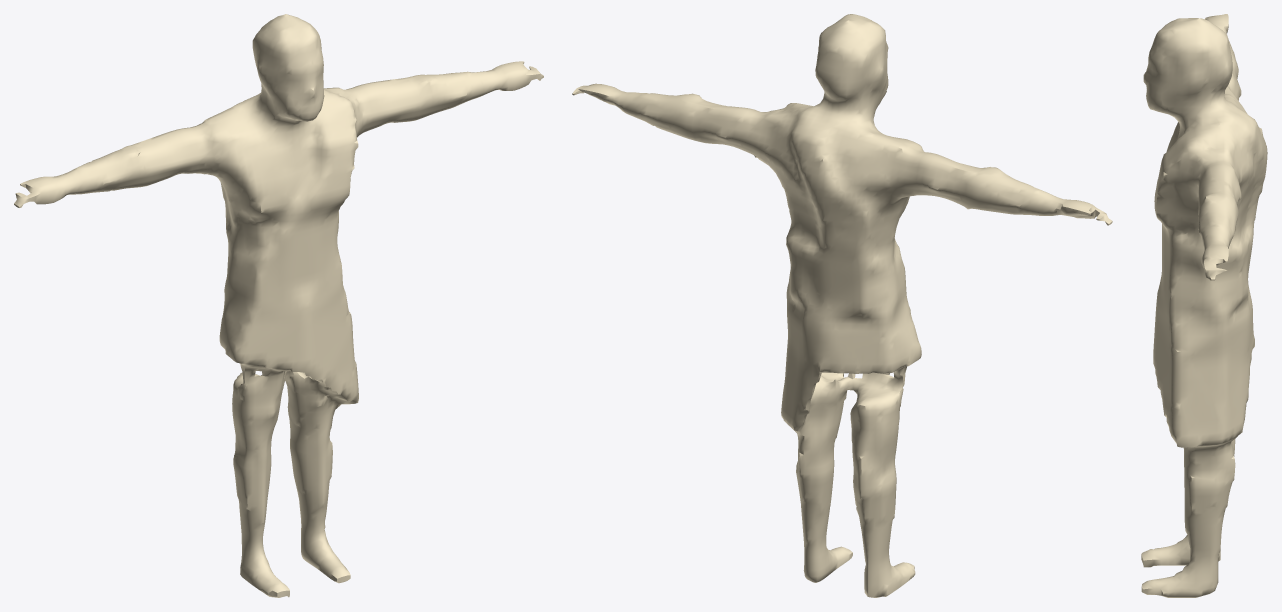
3 views of the same model, side by side, from view 1: azimuth 30°, elevation 25°; view 2: azimuth 150°, elevation 25°; view 3: azimuth 270°, elevation 25° (orthographic).
Parts seen in each view (by area): view 1: split_parent_0; view 2: split_parent_0; view 3: split_parent_0.
Part boxes in pixels (bbox=[...]): split_parent_0: bbox=[14, 14, 543, 597]; split_parent_0: bbox=[572, 14, 1112, 597]; split_parent_0: bbox=[1141, 14, 1267, 597].
Size of the model in its own units: 0.9926 by 1 by 0.204.
